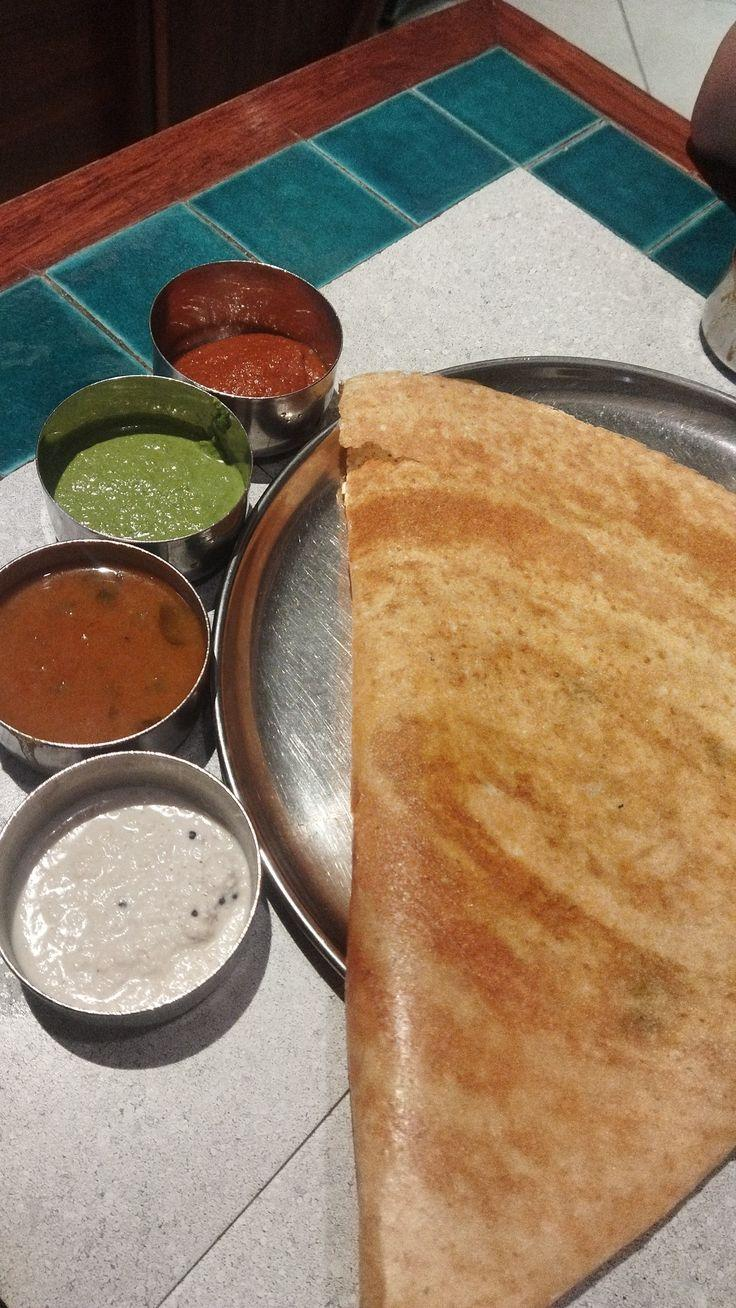dosa: (304, 380, 736, 1308)
